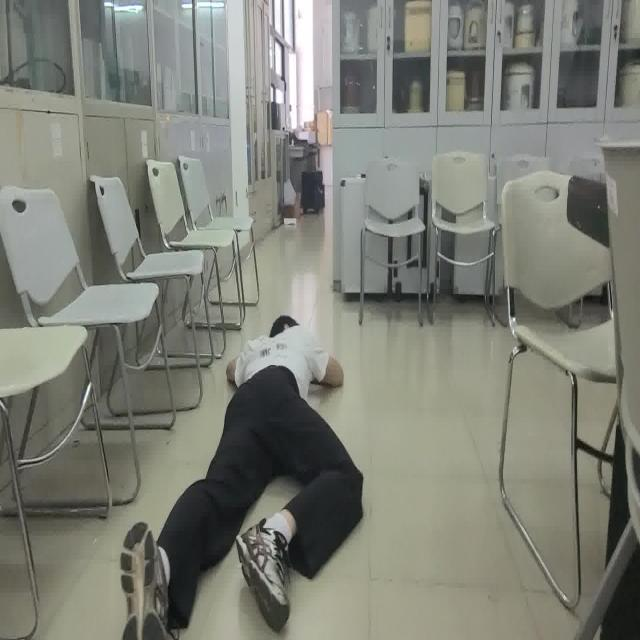Fall-Detected: (118, 315, 364, 640)
